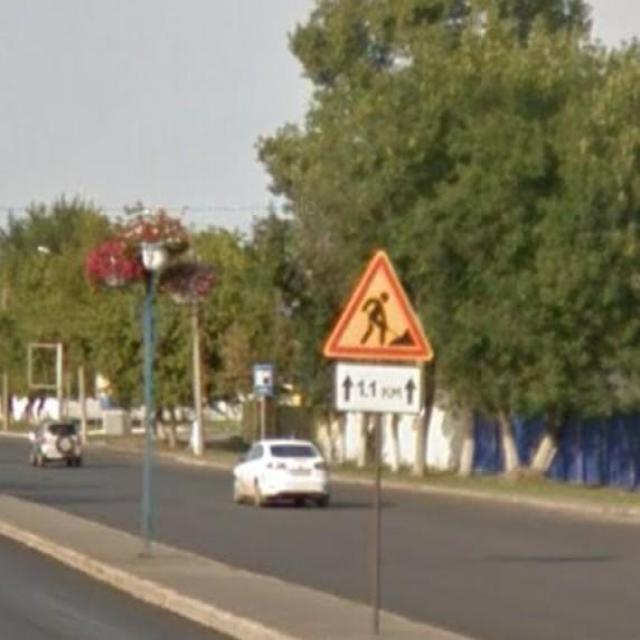road_work: (316, 242, 438, 367)
